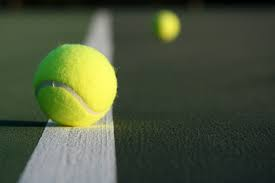tennis_ball: (33, 42, 119, 127), (149, 8, 182, 44)
